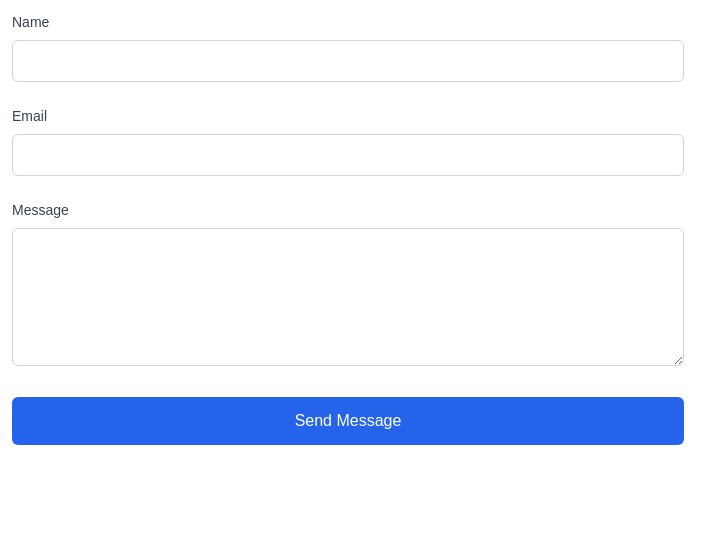
Test: ContactForm Component › should display success message on valid form submission
Type "John Doe" into the field labelled "Name". click: (348, 61)
box: [12,40,684,82]
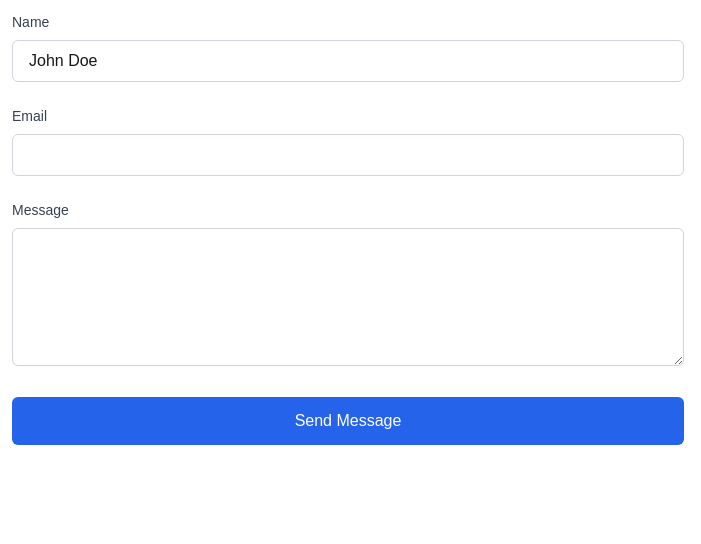
Type "john@example.com" into the field labelled "Email". click: (348, 155)
box: [12,134,684,176]
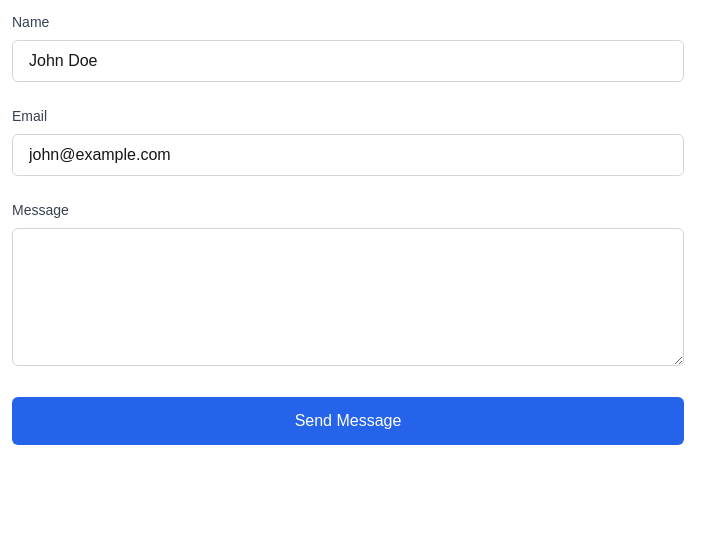
Type "Hello, I have a question." into the text box labelled "Message". click: (348, 297)
box: [12,228,684,366]
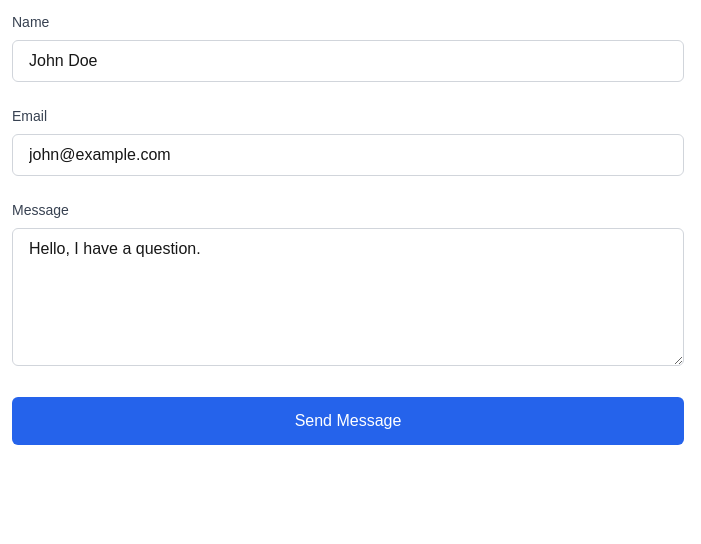
Click the button "Send Message". click: (348, 421)
box: [12,397,684,445]
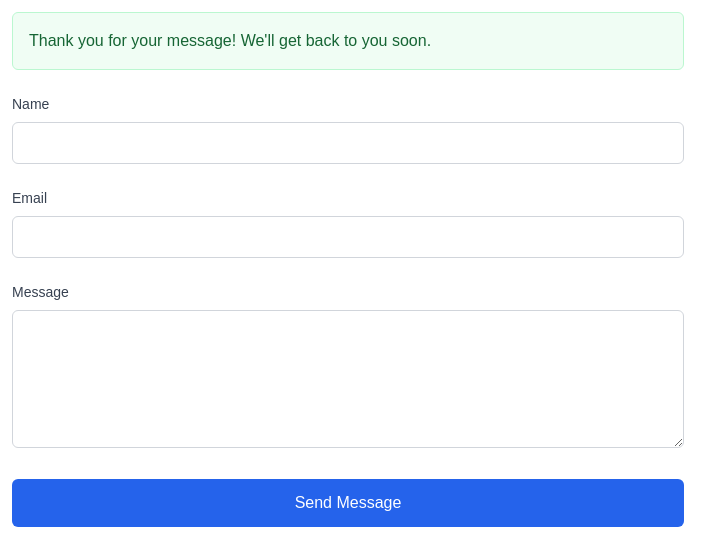
Result: the text "Thank you for your message! We'll get back to you soon." is shown at [29,32,431,49]
